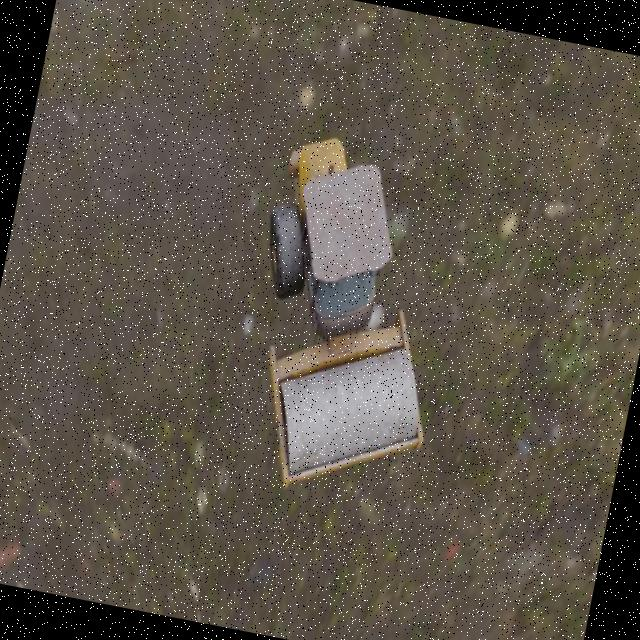Roller: (218, 128, 476, 512)
